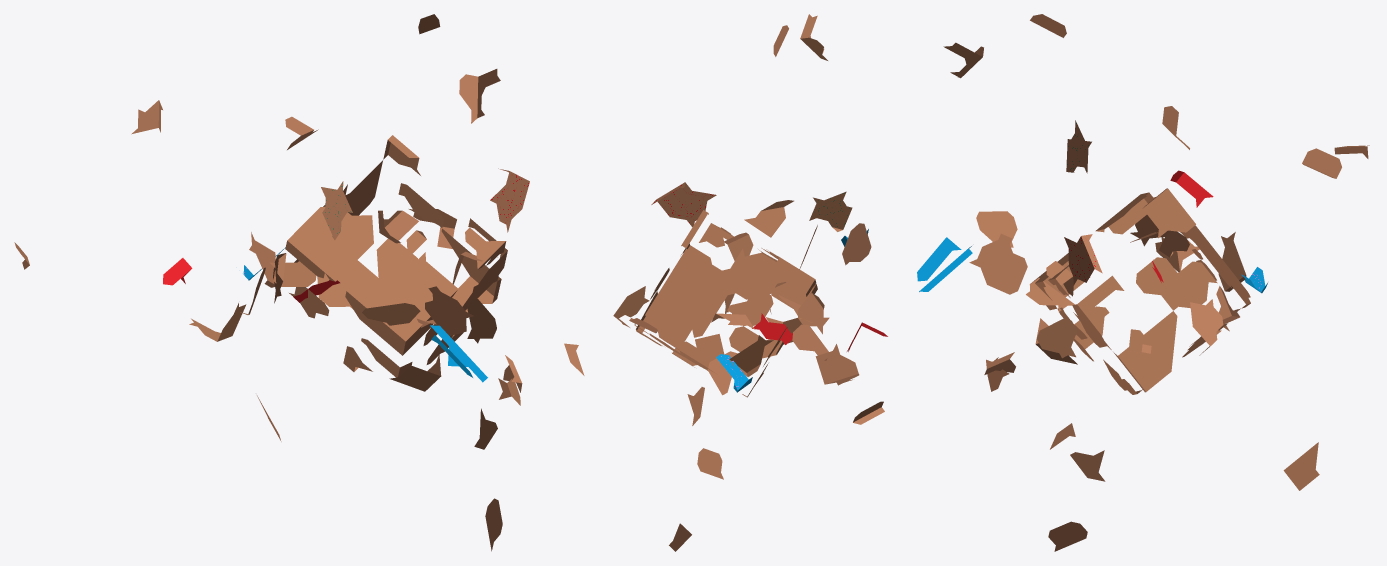
File: explode_000100.obj
The picture shows the model from 3 angles, left to right: view 1: azimuth 30°, elevation 25°; view 2: azimuth 150°, elevation 25°; view 3: azimuth 270°, elevation 25°; orthographic projection. The views are drawn at different scales.
Visible parts, largest first — view 1: Cube_Cube.001; view 2: Cube_Cube.001; view 3: Cube_Cube.001.
Part boxes in pixels (<box>): Cube_Cube.001: <box>14,14,584,551</box>; Cube_Cube.001: <box>613,14,887,551</box>; Cube_Cube.001: <box>917,14,1369,551</box>.
Size of the model in its own units: 6.25 by 7.74 by 6.28.
